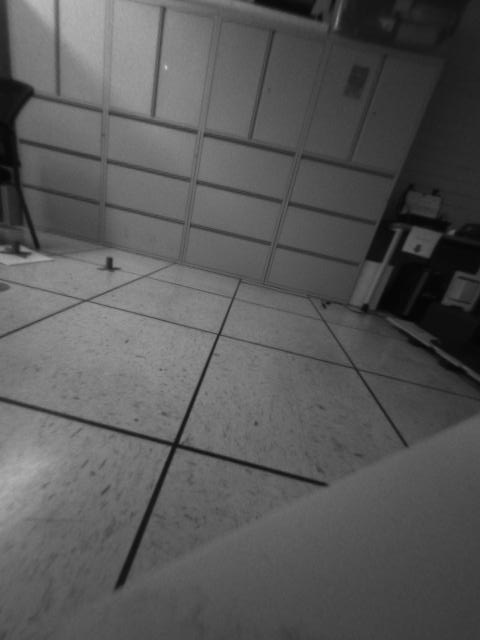X: (1, 237, 33, 258), (98, 255, 121, 274)
